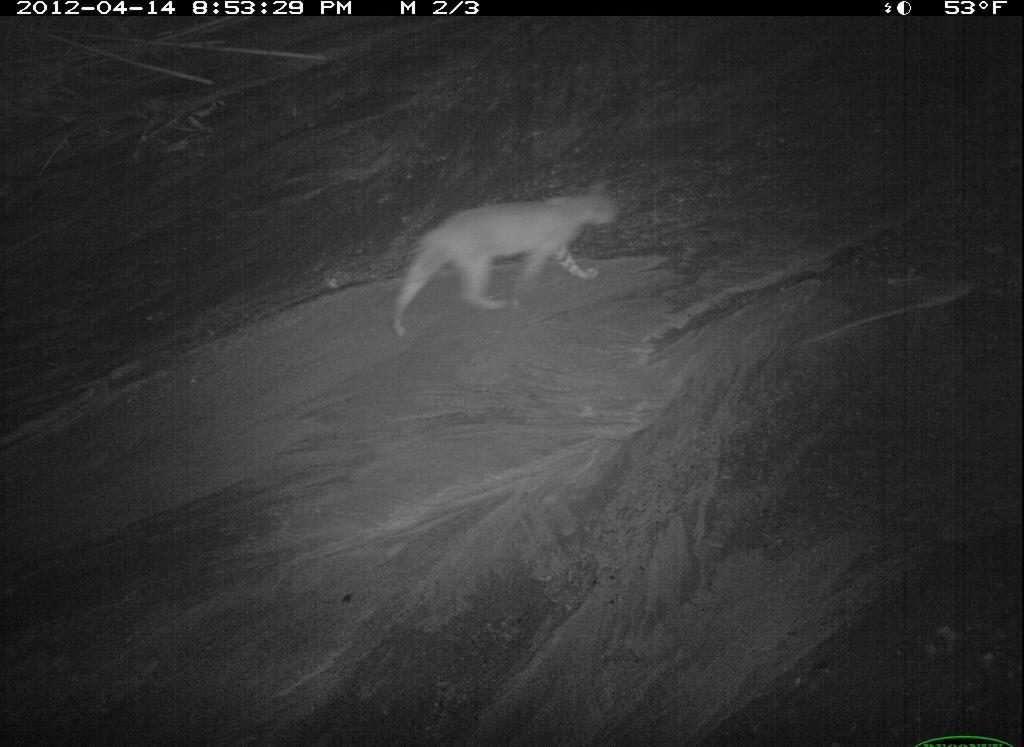bobcat: (767, 346, 1024, 682)
